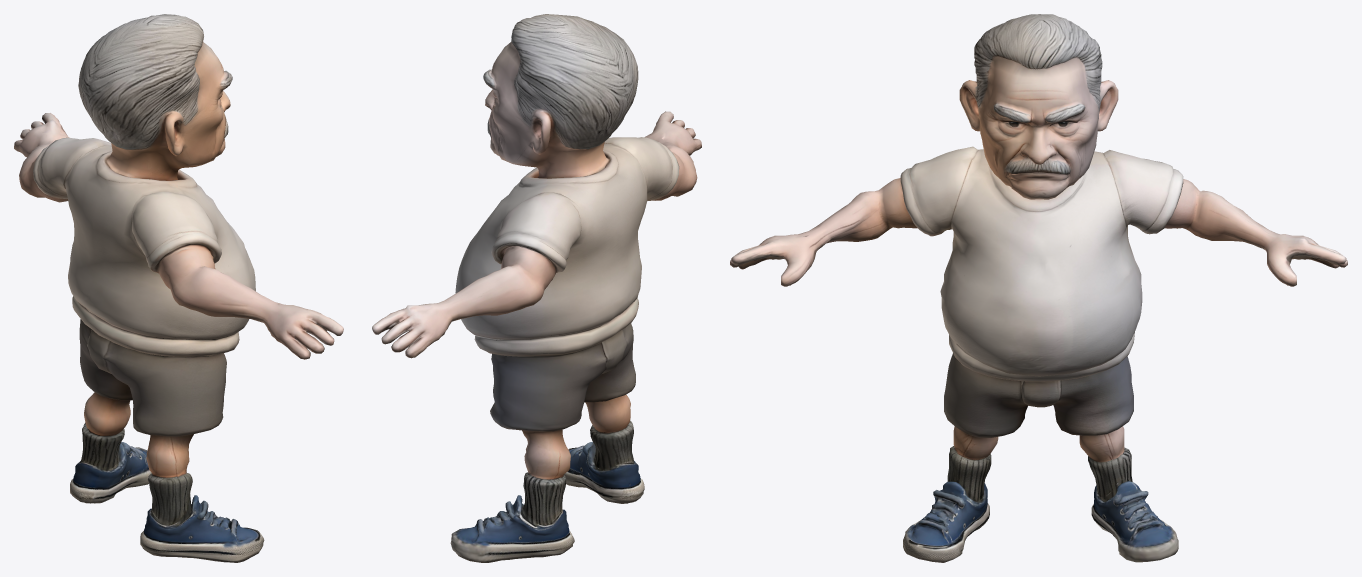
The picture shows the model from 3 angles, left to right: view 1: azimuth 30°, elevation 25°; view 2: azimuth 150°, elevation 25°; view 3: azimuth 270°, elevation 25°; orthographic projection. The views are drawn at different scales.
Visible parts, largest first — view 1: tripo_node_205e0b33; view 2: tripo_node_205e0b33; view 3: tripo_node_205e0b33.
Part boxes in pixels (x1,y1,x2,y2): tripo_node_205e0b33: [14, 14, 343, 562]; tripo_node_205e0b33: [372, 14, 701, 562]; tripo_node_205e0b33: [730, 14, 1347, 562].
Bounding box in the file's own units: 0.3112 × 0.9256 × 1.
Materials: 1 (1 with a texture image).
